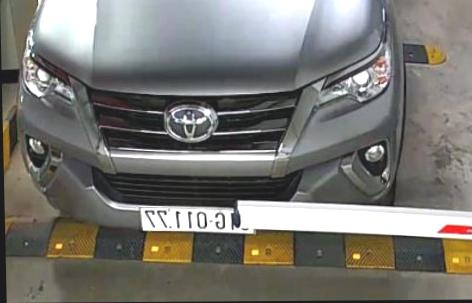License_Plate: (129, 197, 260, 241)
